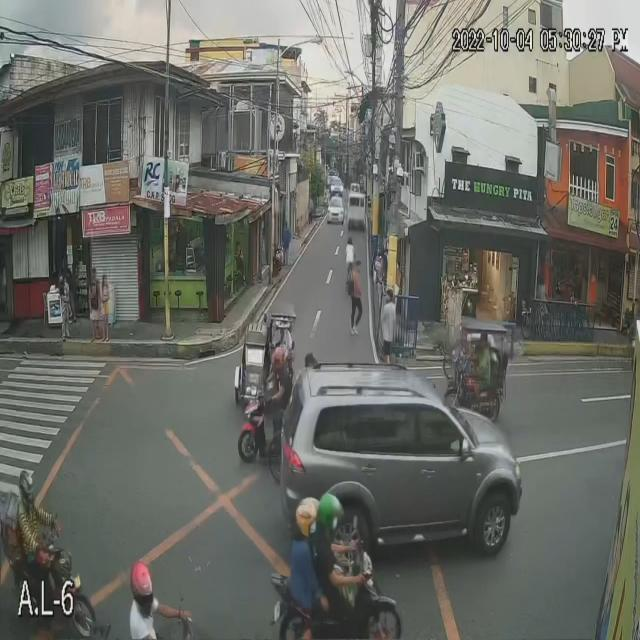full: (128, 560, 155, 622), (18, 468, 36, 510), (270, 344, 288, 376)
half: (316, 494, 343, 536), (295, 496, 319, 539)
